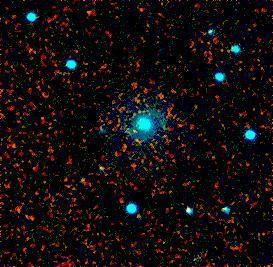star: (76, 0, 106, 24)
